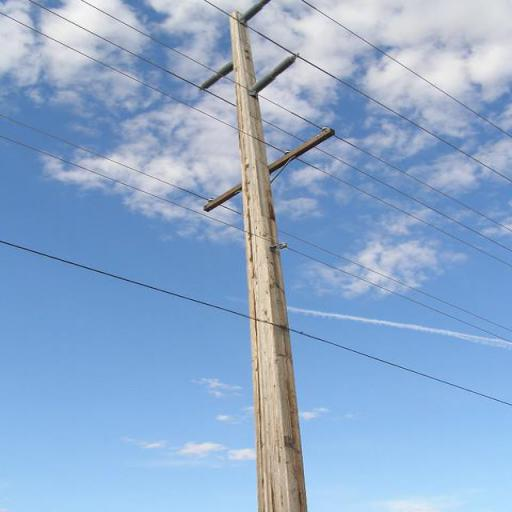mono_10: (202, 0, 344, 511)
